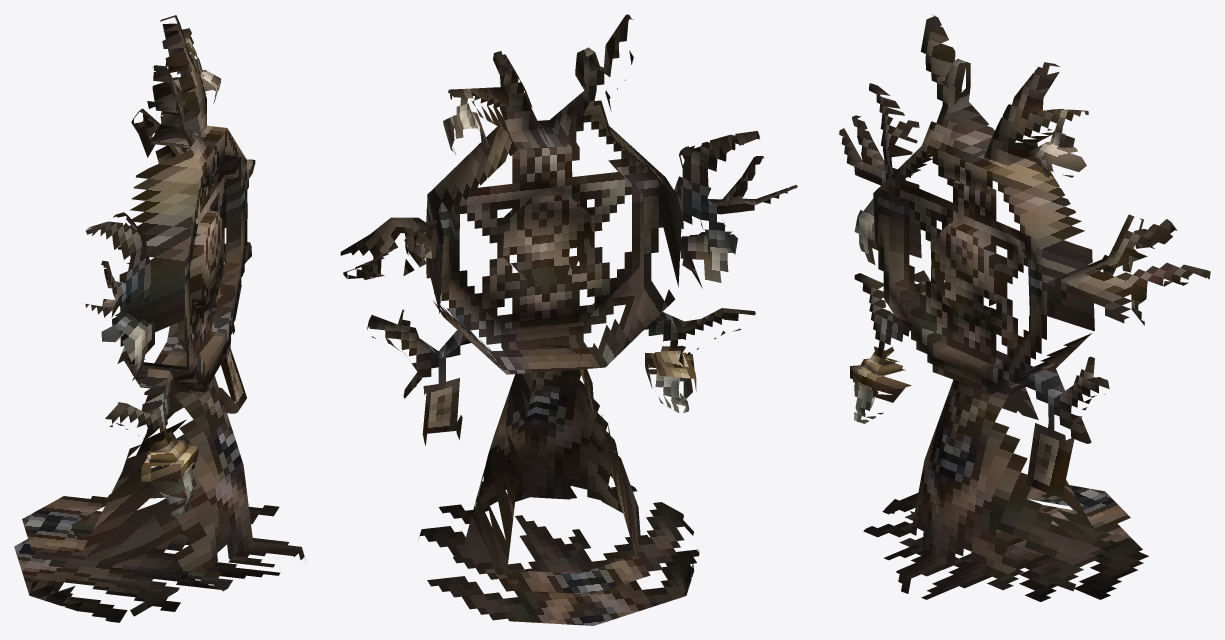
Rendered from SanctuaryTree.glb.
3 views of the same model, side by side, from view 1: azimuth 30°, elevation 25°; view 2: azimuth 150°, elevation 25°; view 3: azimuth 270°, elevation 25° (orthographic).
Visible parts, largest first — view 1: 25DBG_common_Props_sanctuary; view 2: 25DBG_common_Props_sanctuary; view 3: 25DBG_common_Props_sanctuary.
Part boxes in pixels (left/top/right/bottom): 25DBG_common_Props_sanctuary: left=14, top=15, right=305, bottom=622; 25DBG_common_Props_sanctuary: left=340, top=14, right=797, bottom=625; 25DBG_common_Props_sanctuary: left=839, top=14, right=1210, bottom=601.
Size of the model in its own units: 1.03 by 1.62 by 1.05.
Materials: 1 (1 with a texture image).
